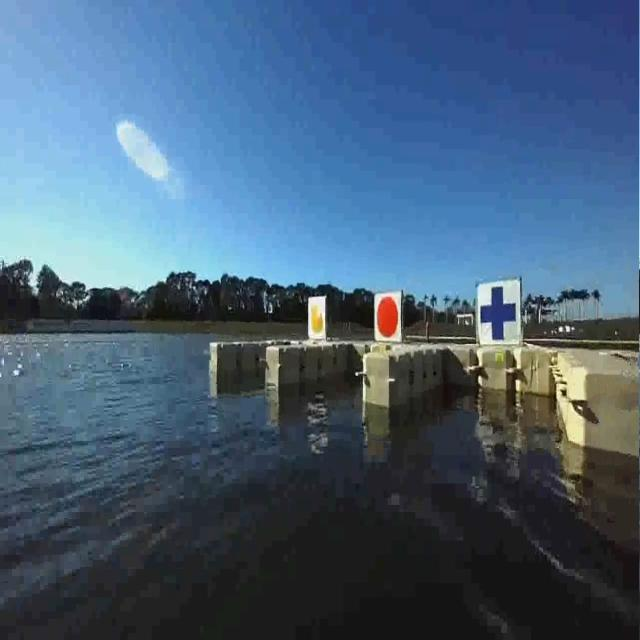blue-cross: (472, 276, 522, 346)
red-dot: (371, 290, 404, 343)
yellow-duck: (306, 282, 328, 344)
